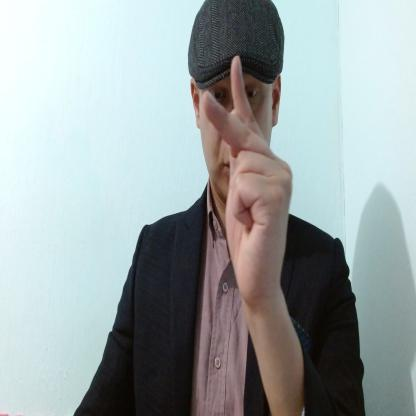P: (202, 54, 294, 301)
